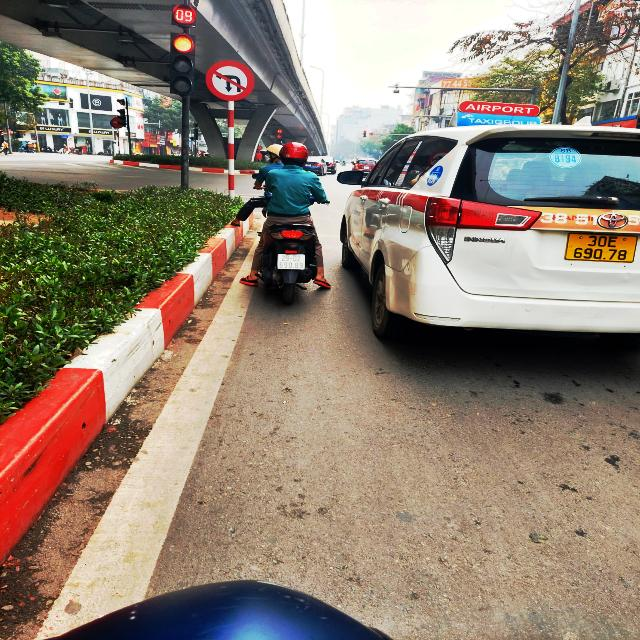license_plate: (567, 233, 638, 263), (566, 234, 639, 263), (277, 255, 306, 270)
